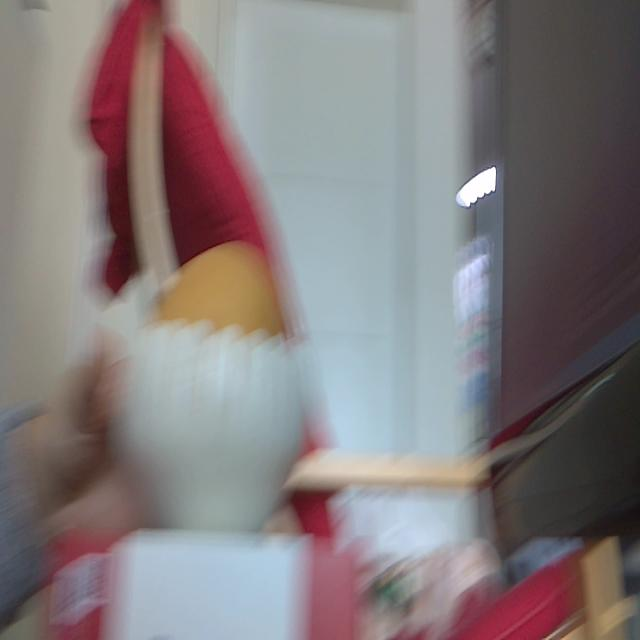pear: (113, 237, 305, 534)
